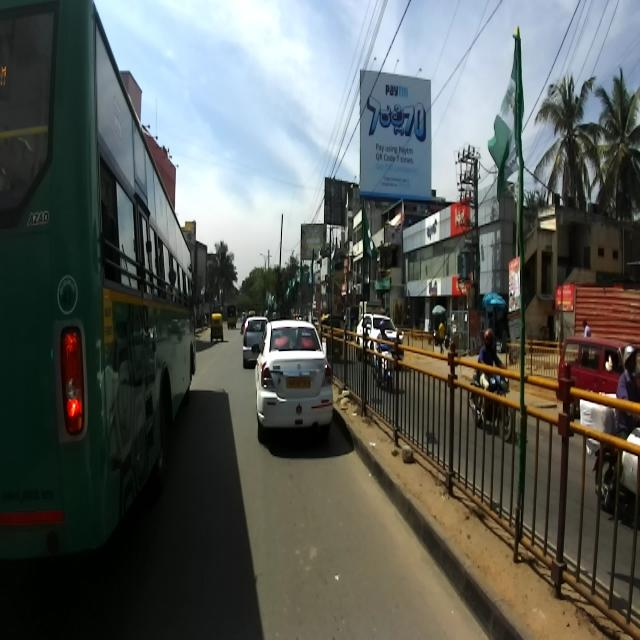Car_Maruti-Suzuki: (251, 317, 333, 442), (555, 334, 639, 420)
bus: (0, 0, 196, 558)
motorcycle: (591, 405, 639, 514)
motorcycle_bajaj: (468, 368, 512, 441)
